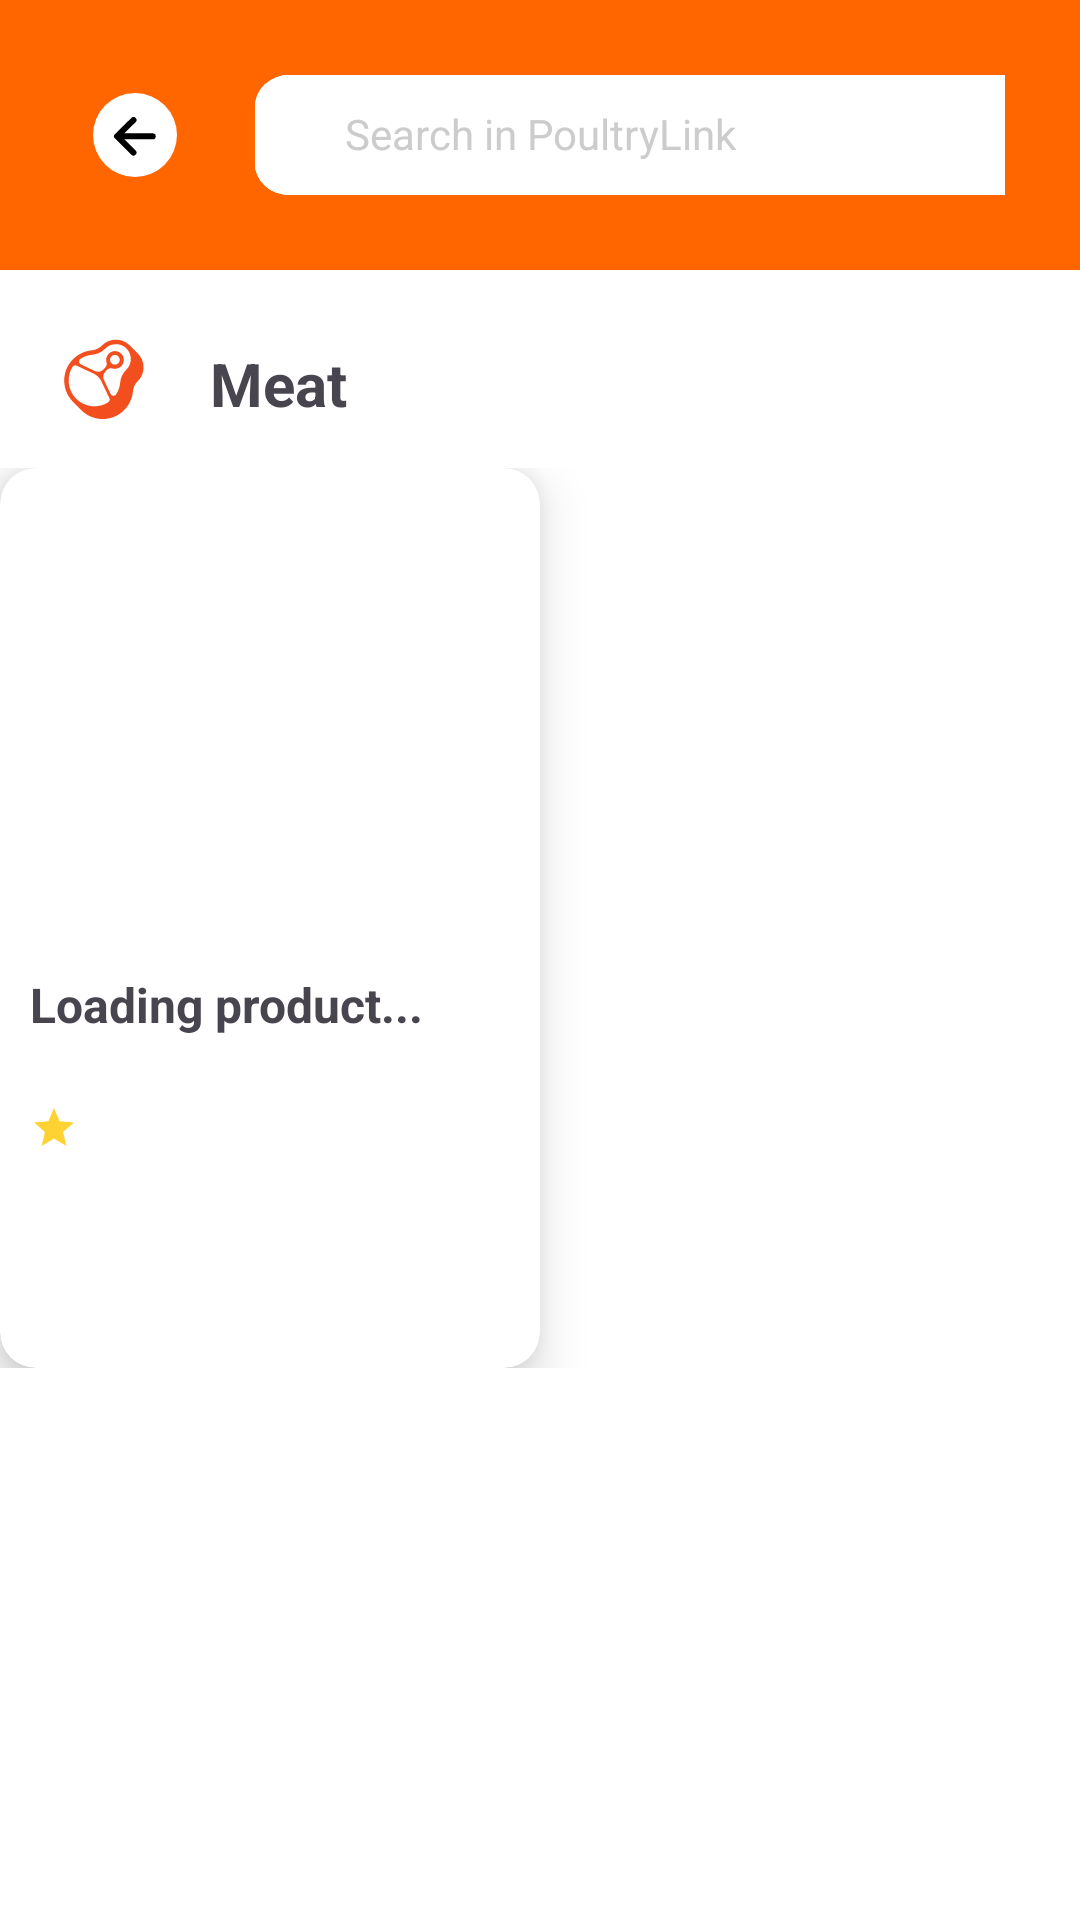

Locate icon controls on the screen. Image size 1080 x 1920, boxes as [x1=x1, y1=y1, x2=x2, y2=y2].
Back: [x1=93, y1=93, x2=177, y2=177]
star: [x1=34, y1=1108, x2=74, y2=1146]
